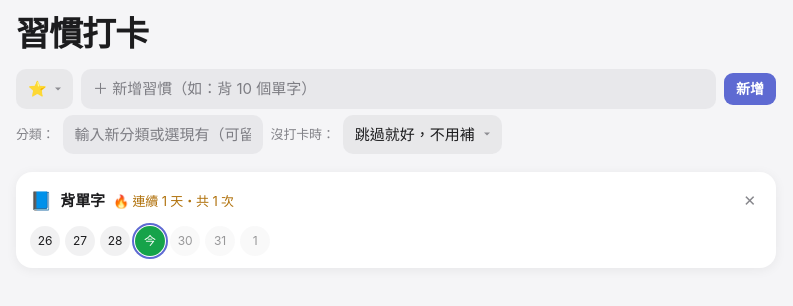
Test: 習慣頁刪除習慣的確認／防重／寫入／刷新邊界 › 沒有錯誤訊息的寫入失敗退回預設繁中提示
Click the button "✕".
click(750, 201)  # box left=737, top=184, right=762, bottom=218
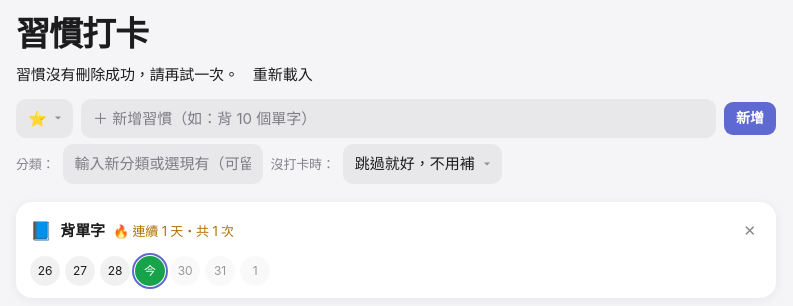
expect the message shows "習慣沒有刪除成功，請再試一次。": met, box left=16, top=65, right=239, bottom=84
